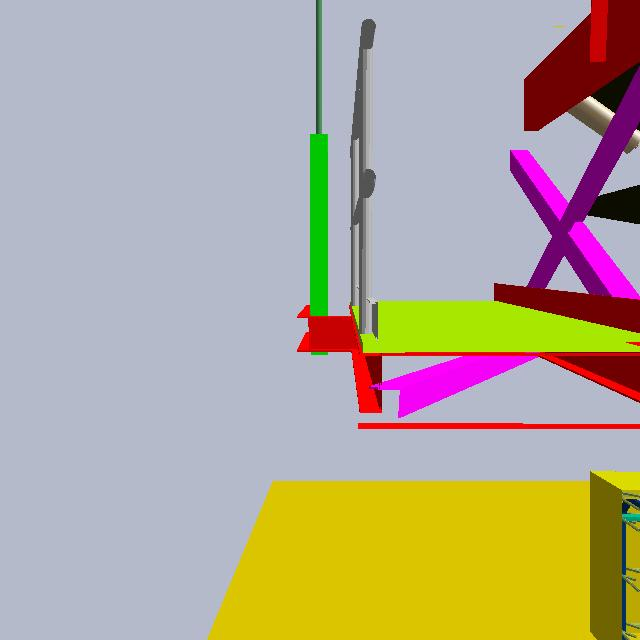Poste: (313, 1, 327, 368)
Soporte: (285, 124, 378, 369)
